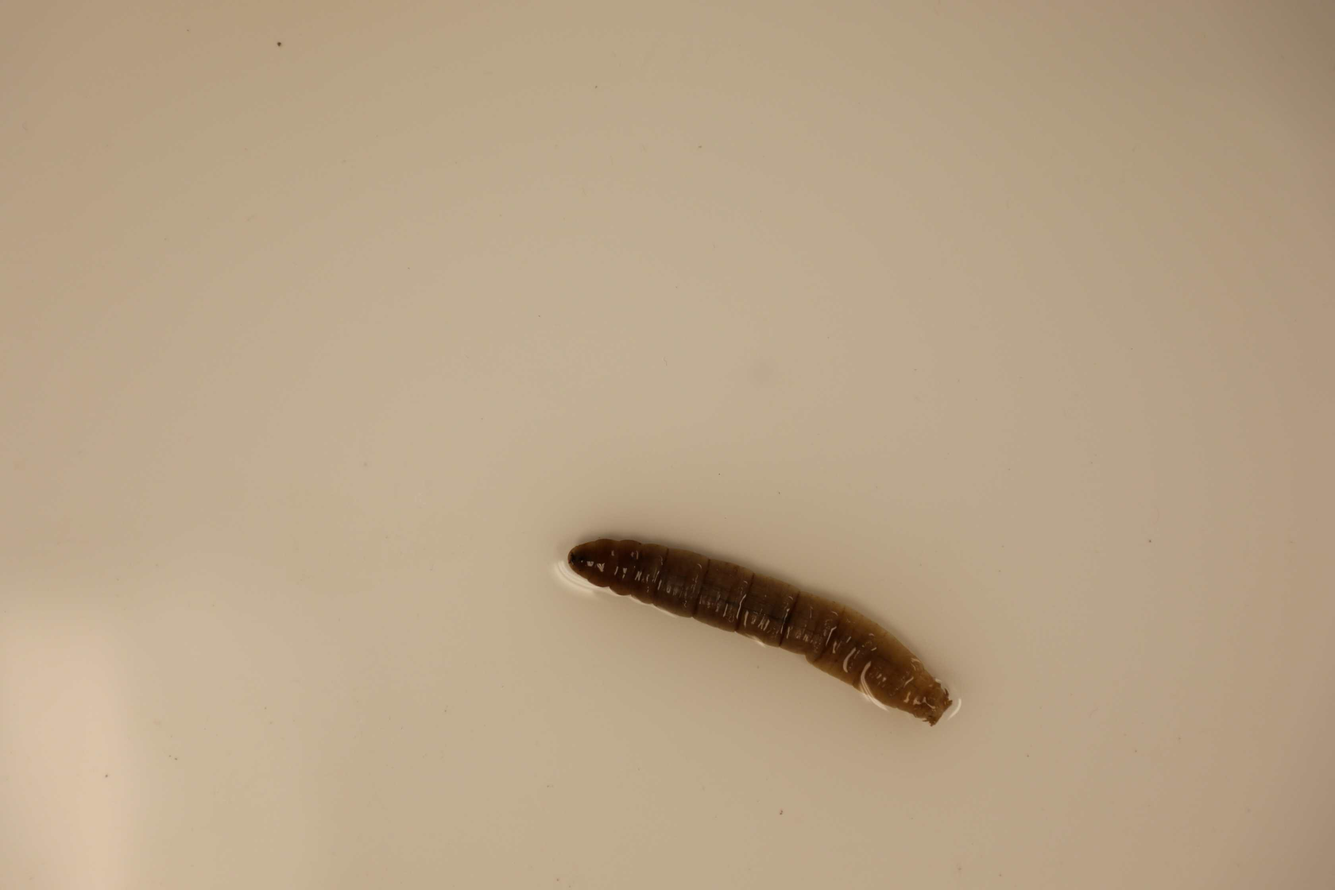Other: (564, 534, 952, 729)
